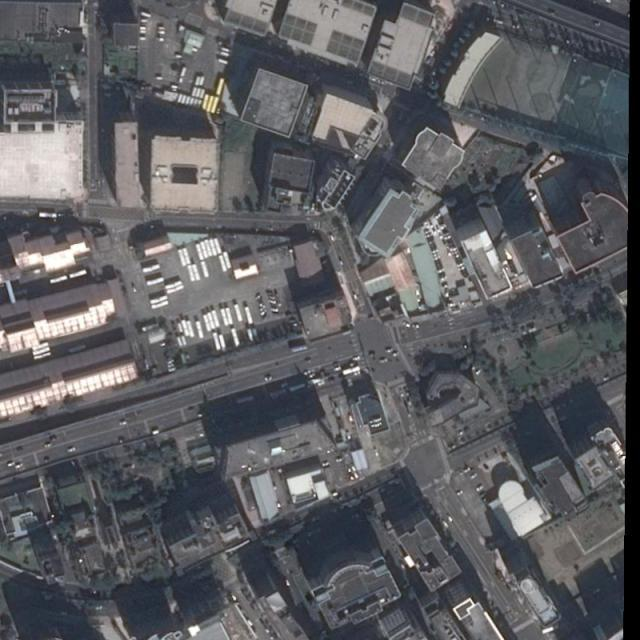vehicle: (222, 252, 233, 270), (195, 321, 205, 339), (202, 314, 212, 332), (244, 307, 254, 325), (195, 244, 205, 261), (218, 256, 228, 273), (191, 264, 201, 281), (210, 310, 220, 327), (220, 309, 230, 326), (212, 333, 222, 350), (218, 334, 228, 351), (204, 240, 213, 258), (209, 239, 218, 257), (342, 366, 360, 375), (142, 265, 160, 274), (166, 286, 184, 295), (150, 296, 168, 305), (151, 301, 169, 310), (181, 320, 190, 338), (207, 312, 216, 330), (200, 262, 210, 278), (178, 250, 187, 267), (182, 248, 191, 265), (200, 242, 209, 259), (187, 265, 196, 282), (165, 281, 182, 290), (187, 321, 196, 338), (231, 329, 240, 346), (234, 305, 243, 322), (146, 278, 164, 286), (226, 308, 234, 326), (214, 238, 222, 254), (402, 319, 412, 328), (462, 466, 471, 474), (477, 482, 485, 491), (378, 358, 388, 365), (264, 375, 274, 382), (470, 473, 478, 481), (456, 490, 464, 498), (15, 463, 24, 470), (412, 322, 421, 329), (386, 346, 394, 353), (352, 355, 361, 361), (303, 369, 312, 375), (392, 351, 399, 358), (45, 442, 52, 448), (67, 448, 75, 453), (152, 430, 160, 435), (120, 421, 127, 426), (8, 462, 15, 466), (1, 453, 3, 457)
